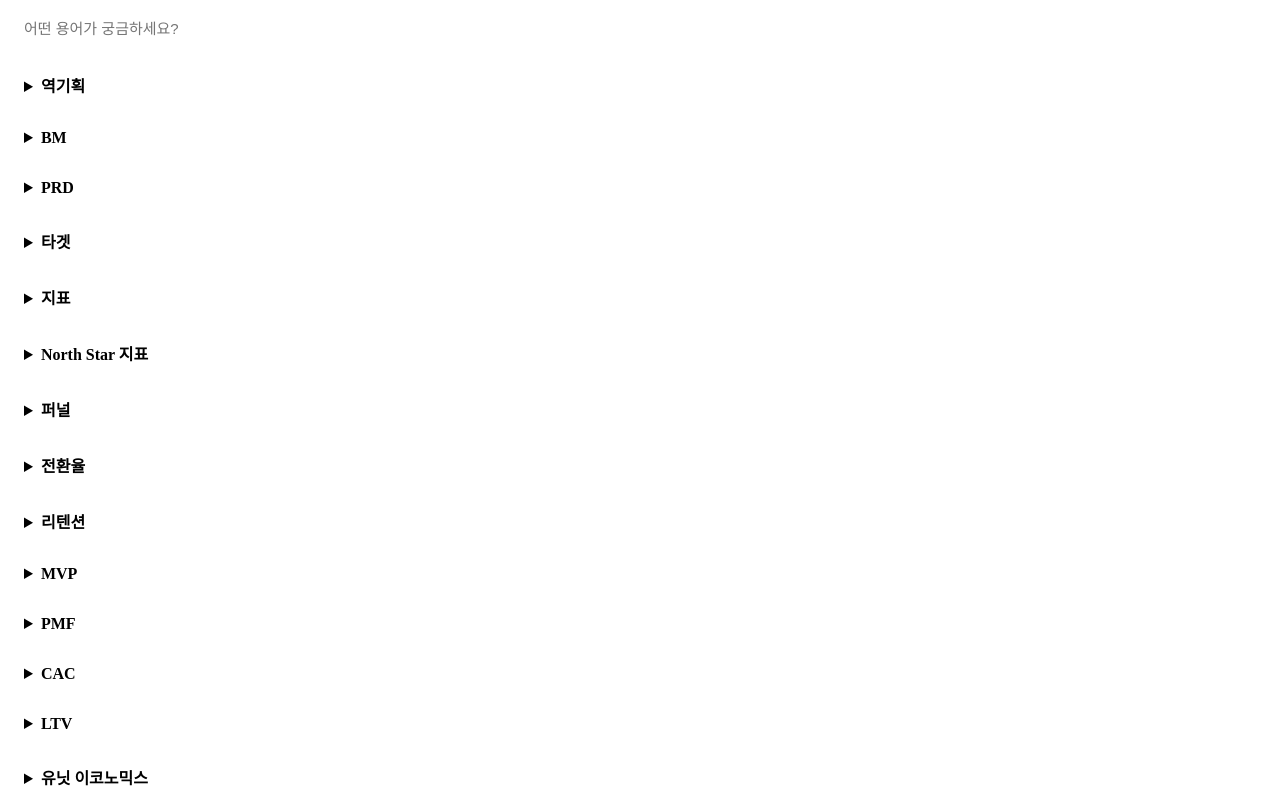
Test: <Glossary /> › 결과가 없으면 빈 상태를 보여준다
Type "zzzz" into the search field at (640, 28), box [8,8,1272,49]
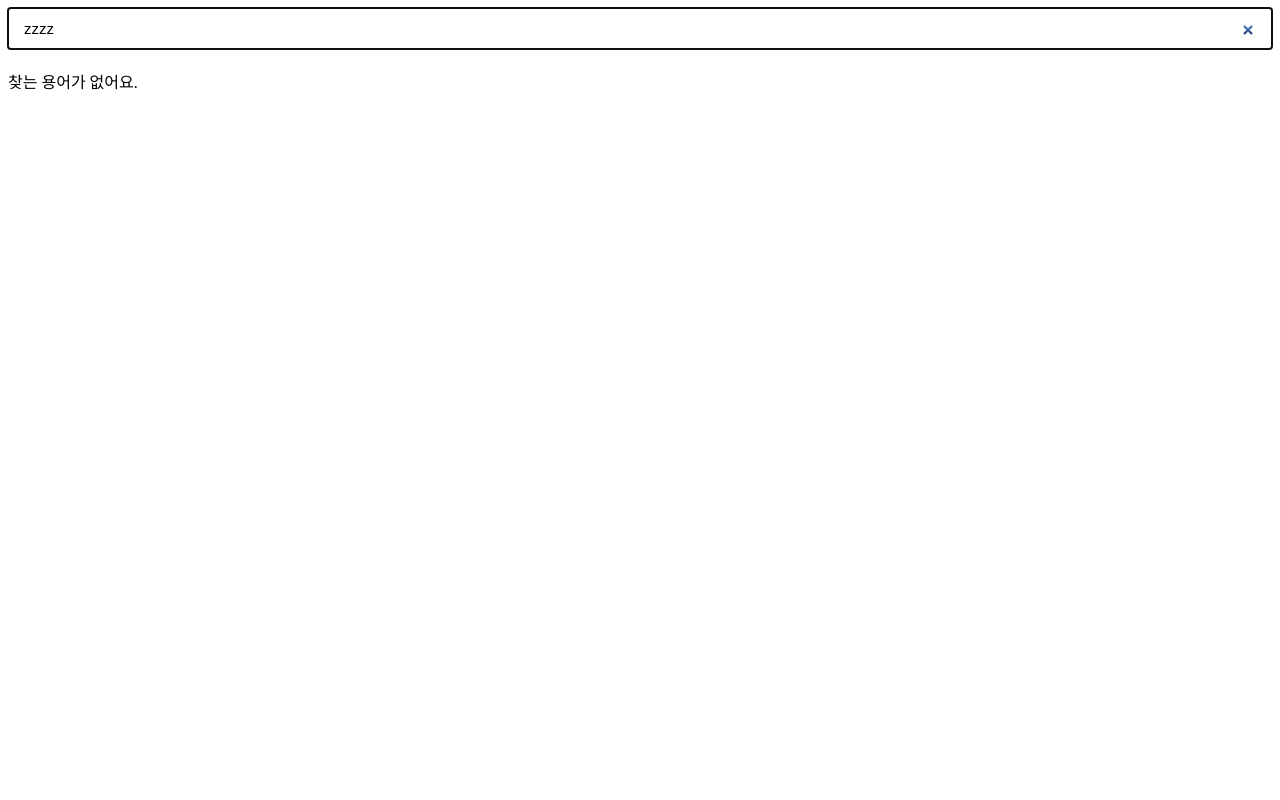
Check: the text "찾는 용어가 없어요." is shown, box [8,74,138,91]
